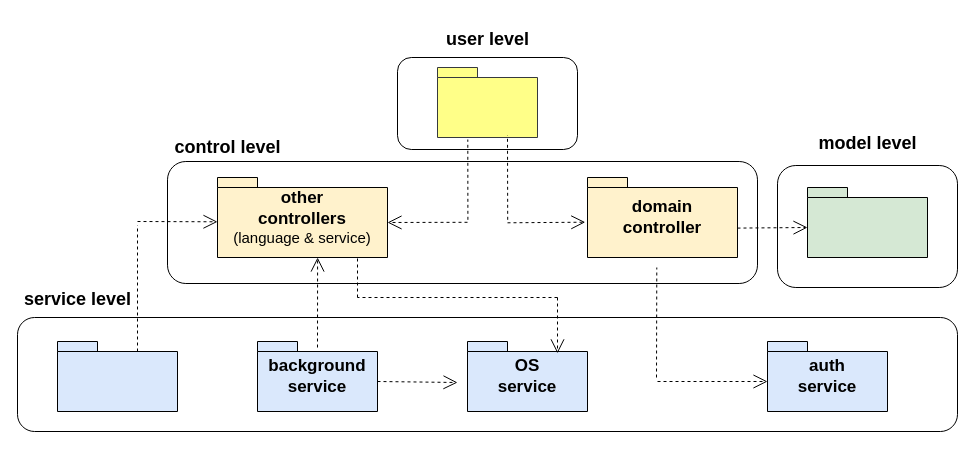
Some shapes in this 975 by 449 pixel diagram are drawn without their labels. Each missing label, with the centre of its shape:
"internet service" belongs at point (117, 376).
"model" belongs at point (867, 222).
"UI (pages)" belongs at point (487, 102).
